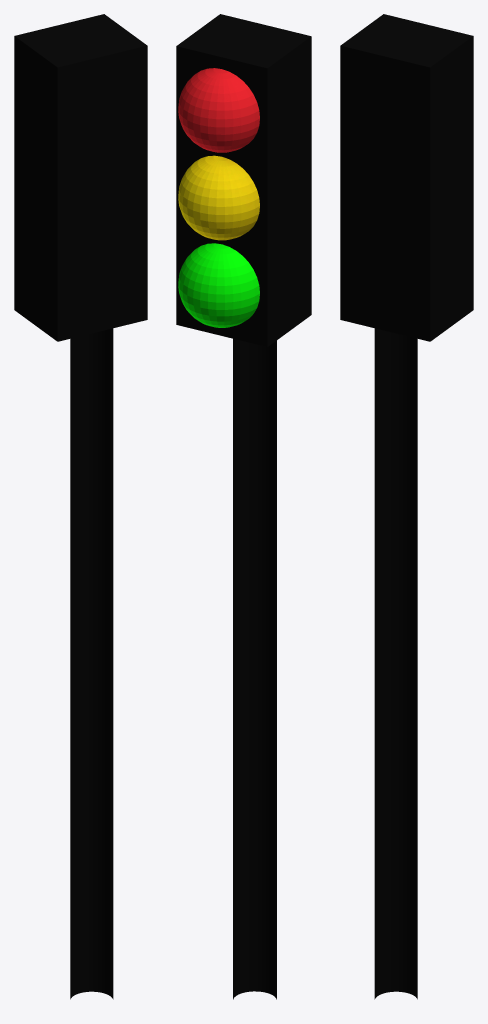
Rendered from Trafficsignal.dae.
The picture shows the model from 3 angles, left to right: view 1: azimuth 30°, elevation 25°; view 2: azimuth 150°, elevation 25°; view 3: azimuth 330°, elevation 25°; orthographic projection.
Parts seen in each view (by area): view 1: Cube, Circle; view 2: Circle, Cube, Sphere.001, Sphere.002, Sphere; view 3: Cube, Circle.
Boxes of the visible parts, <box> form: Cube: <box>14,14,147,341</box>; Circle: <box>70,328,113,999</box>; Circle: <box>233,338,276,999</box>; Cube: <box>176,14,311,346</box>; Sphere.001: <box>178,155,259,240</box>; Sphere.002: <box>178,243,259,327</box>; Sphere: <box>178,68,259,152</box>; Cube: <box>340,14,473,341</box>; Circle: <box>374,328,417,999</box>.
Size of the model in its own units: 0.12 by 0.15 by 1.22.
5 materials, 3 textured.
